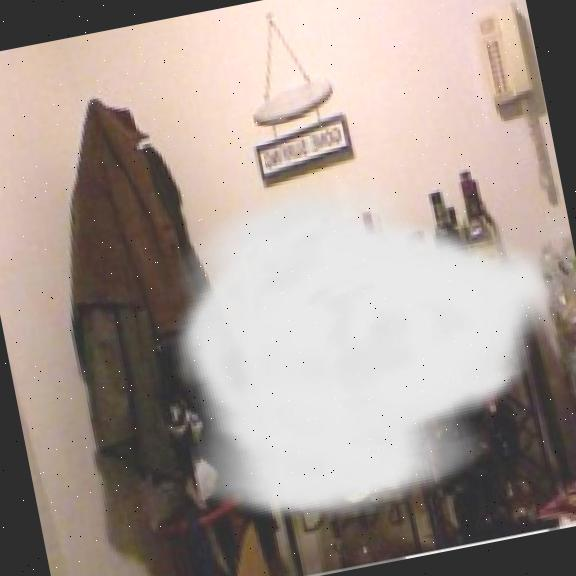smoke: (142, 133, 576, 545)
